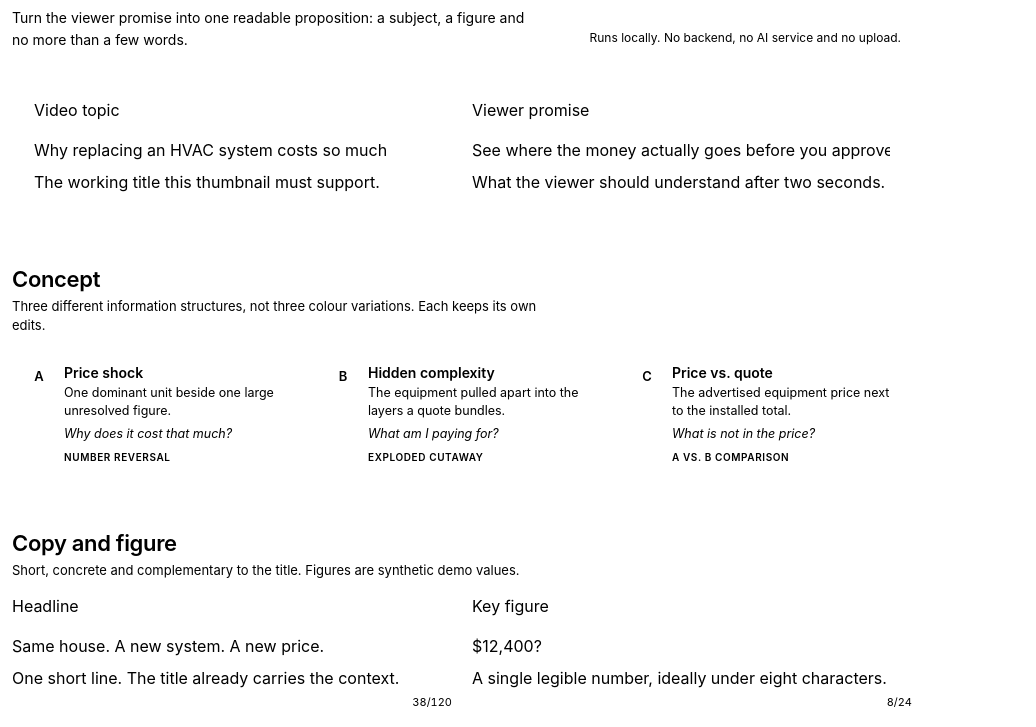
Test: ThumbnailComposer › warns about long copy without blocking the render
The width and height of the screenshot is (1036, 727).
Replace the text in the field labelled "Headline" with "Why a replacement quote bundles equipment labour ductwork permits and disposal into one number that hides the real installed cost" at (232, 646), box [12,634,452,658]
(page scrolled)
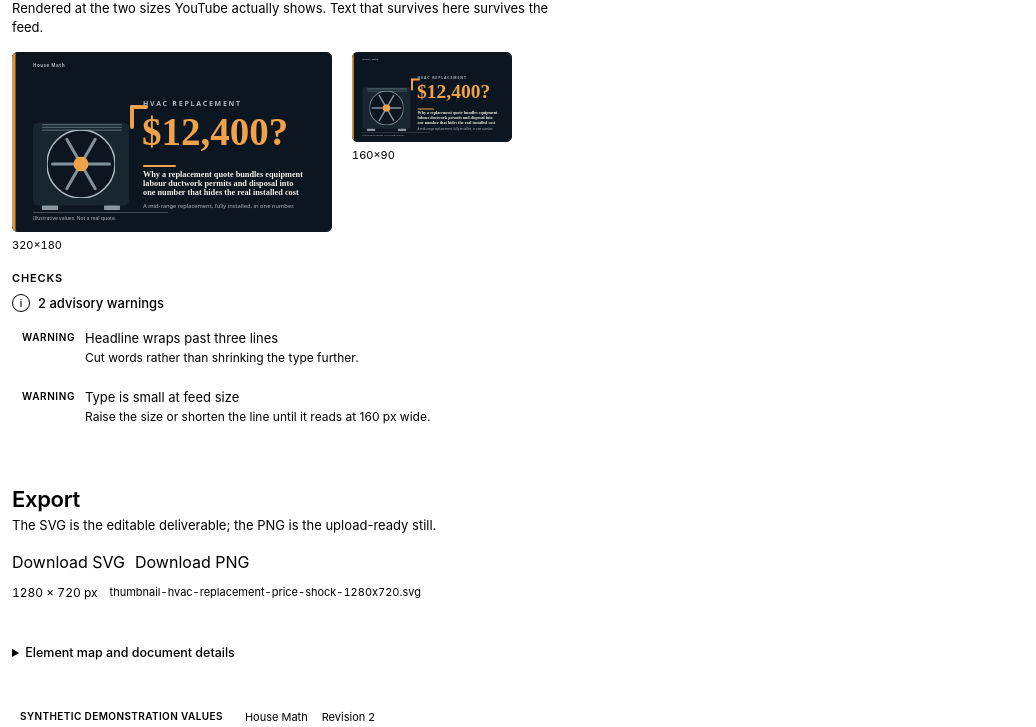
expect the text "Headline wraps past three lines" is shown: met, box [85,330,278,346]
expect the text "Warning" next to "Headline wraps past three lines" is shown: met, box [22,331,75,343]
